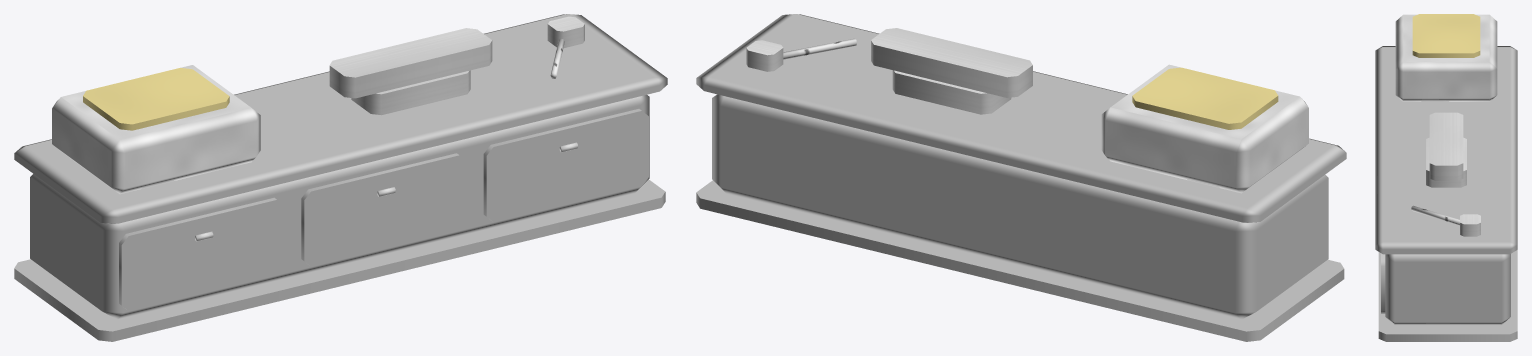
File: bench_electric_smithy.obj
3 views of the same model, side by side, from view 1: azimuth 30°, elevation 25°; view 2: azimuth 150°, elevation 25°; view 3: azimuth 270°, elevation 25° (orthographic). The views are drawn at different scales.
Parts seen in each view (by area): view 1: flat_worktop, cabinet_body, toe_plinth, furnace_block, front_door_2, front_door_3, front_door_1, flat_anvil_top, flat_furnace_coals, anvil_foot, hammer_head; view 2: cabinet_body, flat_worktop, toe_plinth, furnace_block, flat_anvil_top, flat_furnace_coals, anvil_foot, hammer_head, hammer_handle; view 3: flat_worktop, cabinet_body, furnace_block, toe_plinth, flat_furnace_coals, flat_anvil_top, anvil_foot, hammer_head, hammer_handle, front_door_3.
Boxes of the visible parts, left/top/right/bottom form: flat_worktop: left=14, top=14, right=667, bottom=223; cabinet_body: left=30, top=95, right=649, bottom=319; toe_plinth: left=14, top=179, right=665, bottom=341; furnace_block: left=52, top=65, right=260, bottom=194; front_door_2: left=301, top=153, right=466, bottom=266; front_door_3: left=483, top=109, right=648, bottom=222; front_door_1: left=119, top=197, right=284, bottom=310; flat_anvil_top: left=329, top=28, right=492, bottom=98; flat_furnace_coals: left=83, top=68, right=229, bottom=130; anvil_foot: left=351, top=70, right=470, bottom=115; hammer_head: left=547, top=16, right=584, bottom=48; cabinet_body: left=712, top=94, right=1328, bottom=319; flat_worktop: left=696, top=14, right=1346, bottom=222; toe_plinth: left=696, top=180, right=1344, bottom=341; furnace_block: left=1101, top=64, right=1308, bottom=193; flat_anvil_top: left=871, top=28, right=1032, bottom=97; flat_furnace_coals: left=1132, top=67, right=1278, bottom=129; anvil_foot: left=892, top=70, right=1011, bottom=114; hammer_head: left=746, top=40, right=783, bottom=71; hammer_handle: left=783, top=38, right=856, bottom=59; flat_worktop: left=1375, top=46, right=1517, bottom=254; cabinet_body: left=1385, top=254, right=1510, bottom=325; furnace_block: left=1395, top=14, right=1497, bottom=101; toe_plinth: left=1378, top=250, right=1517, bottom=341; flat_furnace_coals: left=1412, top=14, right=1480, bottom=57; flat_anvil_top: left=1429, top=112, right=1463, bottom=180; anvil_foot: left=1426, top=137, right=1466, bottom=187; hammer_head: left=1460, top=214, right=1480, bottom=236; hammer_handle: left=1411, top=205, right=1459, bottom=225; front_door_3: left=1381, top=253, right=1385, bottom=313.
Bounding box in the file's own units: 2.84 × 0.91 × 0.84.
